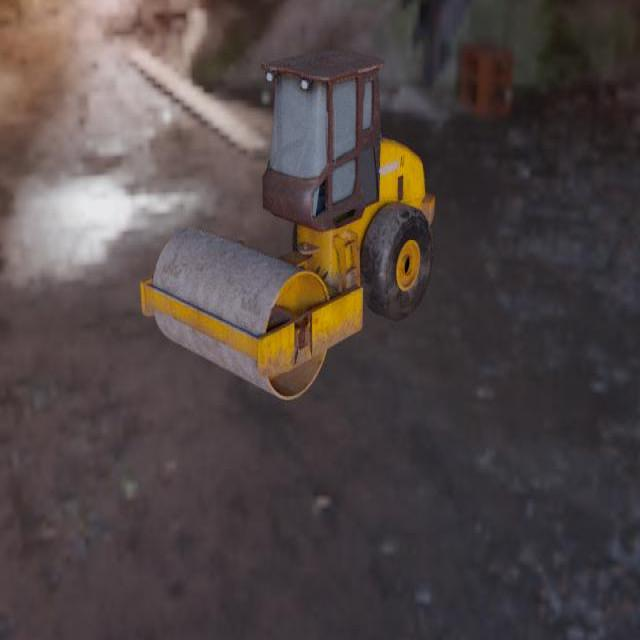Roller: (140, 49, 435, 400)
